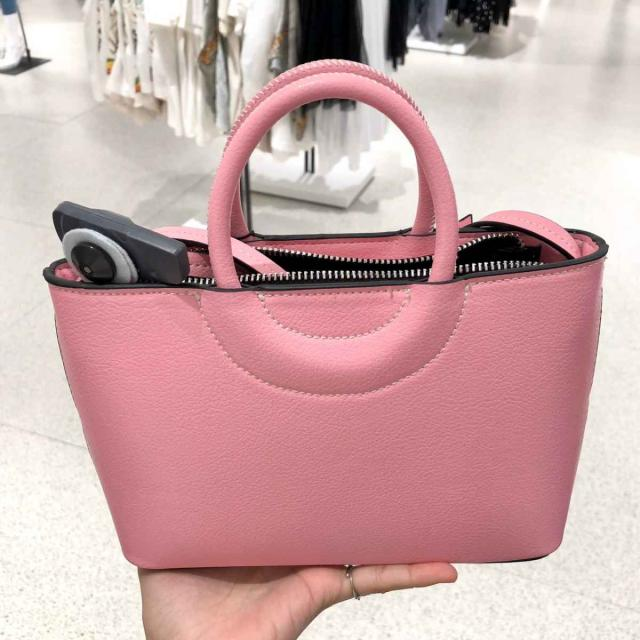Handbag: (42, 164, 603, 582)
